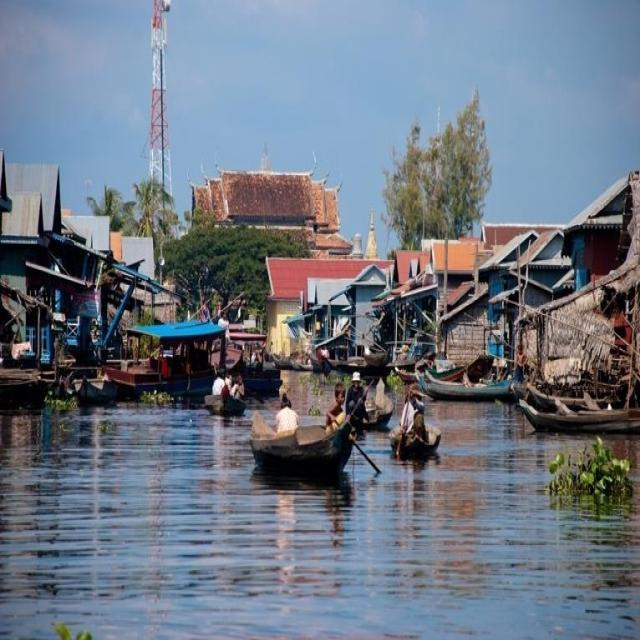Hyacinth: (539, 440, 639, 509), (298, 370, 354, 398), (143, 387, 174, 411), (44, 396, 81, 414), (383, 369, 408, 391), (304, 401, 326, 423), (98, 418, 116, 438)
boat: (241, 406, 369, 488), (102, 326, 222, 396), (415, 364, 523, 408), (519, 400, 640, 439), (389, 398, 441, 463), (203, 378, 246, 421)
